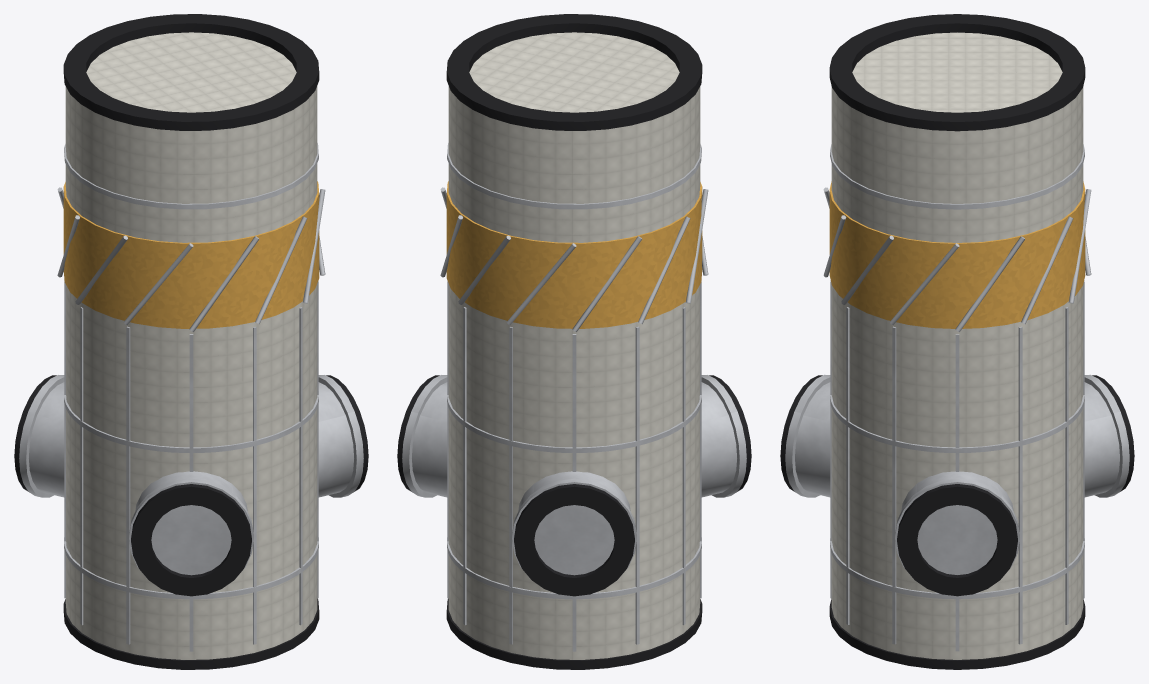
The model's file is station13_despun_core.glb.
3 renders of one model, left to right at view 1: azimuth 30°, elevation 25°; view 2: azimuth 150°, elevation 25°; view 3: azimuth 270°, elevation 25°, orthographic.
Parts seen in each view (by area): view 1: core_hull, equipment_band, docking_collars, end_rings, mmod_grid, docking_rings, band_struts; view 2: core_hull, equipment_band, docking_collars, end_rings, mmod_grid, docking_rings, band_struts; view 3: core_hull, equipment_band, docking_collars, end_rings, mmod_grid, docking_rings, band_struts.
Boxes of the visible parts, x1,y1,x2,y2 form: core_hull: (65, 32, 317, 659); equipment_band: (63, 181, 319, 328); docking_collars: (19, 375, 363, 576); end_rings: (63, 14, 319, 669); mmod_grid: (64, 143, 318, 651); docking_rings: (14, 375, 368, 596); band_struts: (57, 187, 325, 331); core_hull: (448, 32, 700, 659); equipment_band: (446, 181, 702, 328); docking_collars: (402, 375, 746, 576); end_rings: (446, 14, 702, 669); mmod_grid: (447, 143, 701, 651); docking_rings: (397, 375, 751, 596); band_struts: (440, 187, 708, 331); core_hull: (831, 32, 1083, 659); equipment_band: (829, 181, 1085, 328); docking_collars: (785, 374, 1129, 576); end_rings: (829, 14, 1085, 669); mmod_grid: (830, 144, 1084, 651); docking_rings: (780, 375, 1134, 596); band_struts: (823, 187, 1091, 331).
Bounding box in the file's own units: 4.57 × 9 × 5.27.
Materials: 4 (3 with a texture image).
